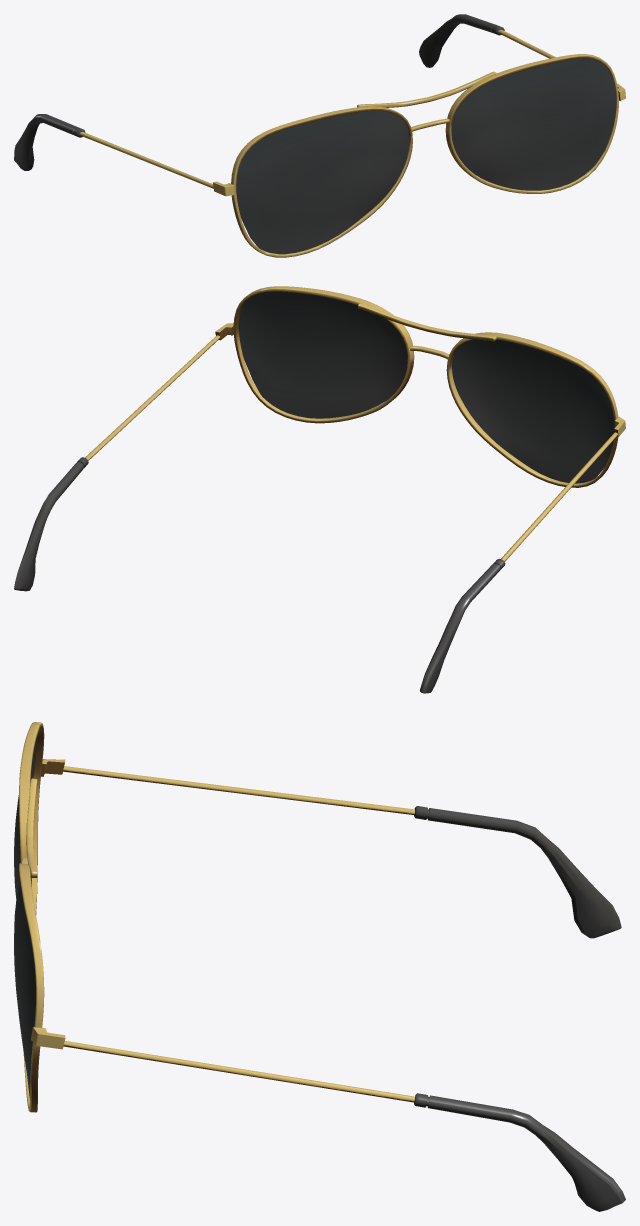
Rendered from aviator_sunglasses_1.glb.
3 renders of one model, top to bottom at view 1: azimuth 30°, elevation 25°; view 2: azimuth 150°, elevation 25°; view 3: azimuth 270°, elevation 25°, orthographic. The views are drawn at different scales.
Parts seen in each view (by area): view 1: polySurface357_blinn1_0, polySurface2_blinn1_0, polySurface16_blinn1_0, polySurface6_blinn1_0, polySurface17_blinn1_0; view 2: polySurface357_blinn1_0, polySurface2_blinn1_0, polySurface16_blinn1_0, polySurface6_blinn1_0; view 3: polySurface16_blinn1_0, polySurface2_blinn1_0, polySurface357_blinn1_0, polySurface17_blinn1_0, polySurface6_blinn1_0.
Part boxes in pixels (box(x1,y1,x2,y2)): polySurface357_blinn1_0: box(236, 58, 616, 254); polySurface2_blinn1_0: box(231, 54, 618, 257); polySurface16_blinn1_0: box(14, 14, 555, 188); polySurface6_blinn1_0: box(357, 71, 496, 107); polySurface17_blinn1_0: box(212, 83, 625, 196); polySurface357_blinn1_0: box(238, 291, 614, 483); polySurface2_blinn1_0: box(233, 286, 618, 487); polySurface16_blinn1_0: box(14, 335, 617, 693); polySurface6_blinn1_0: box(358, 303, 496, 341); polySurface16_blinn1_0: box(63, 766, 625, 1211); polySurface2_blinn1_0: box(19, 722, 44, 1112); polySurface357_blinn1_0: box(14, 738, 36, 1099); polySurface17_blinn1_0: box(31, 759, 65, 1049); polySurface6_blinn1_0: box(26, 778, 37, 877).
Size of the model in its own units: 0.00339 by 0.00136 by 0.00298.
Materials: 1 (1 with a texture image).
